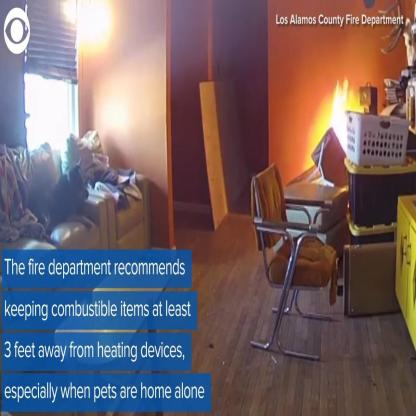fire: (332, 78, 363, 155)
